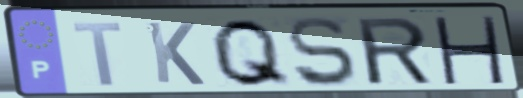H: (429, 15, 507, 86)
K: (142, 19, 208, 88)
Q: (208, 16, 295, 90)
R: (352, 14, 437, 88)
S: (284, 14, 361, 90)
T: (69, 20, 126, 89)
